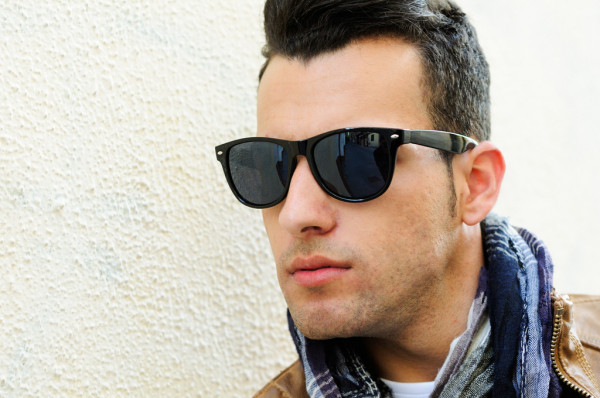glasses: (201, 122, 441, 212)
